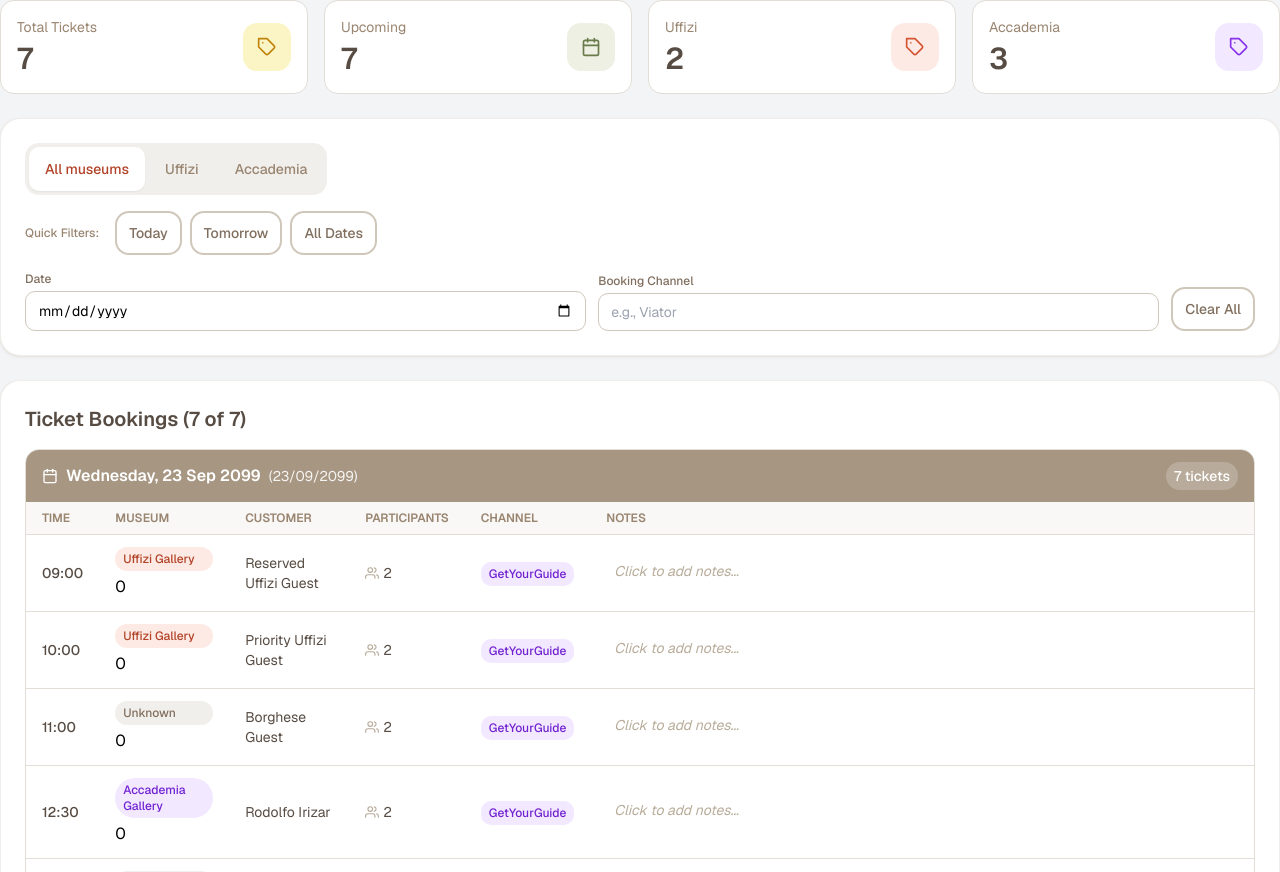
it: Priority Tickets museum tabs (step 6.11) › a failed download is said out loud
Click the tab "Accademia" at x=271, y=169, box x1=219 y1=147 x2=324 y2=191
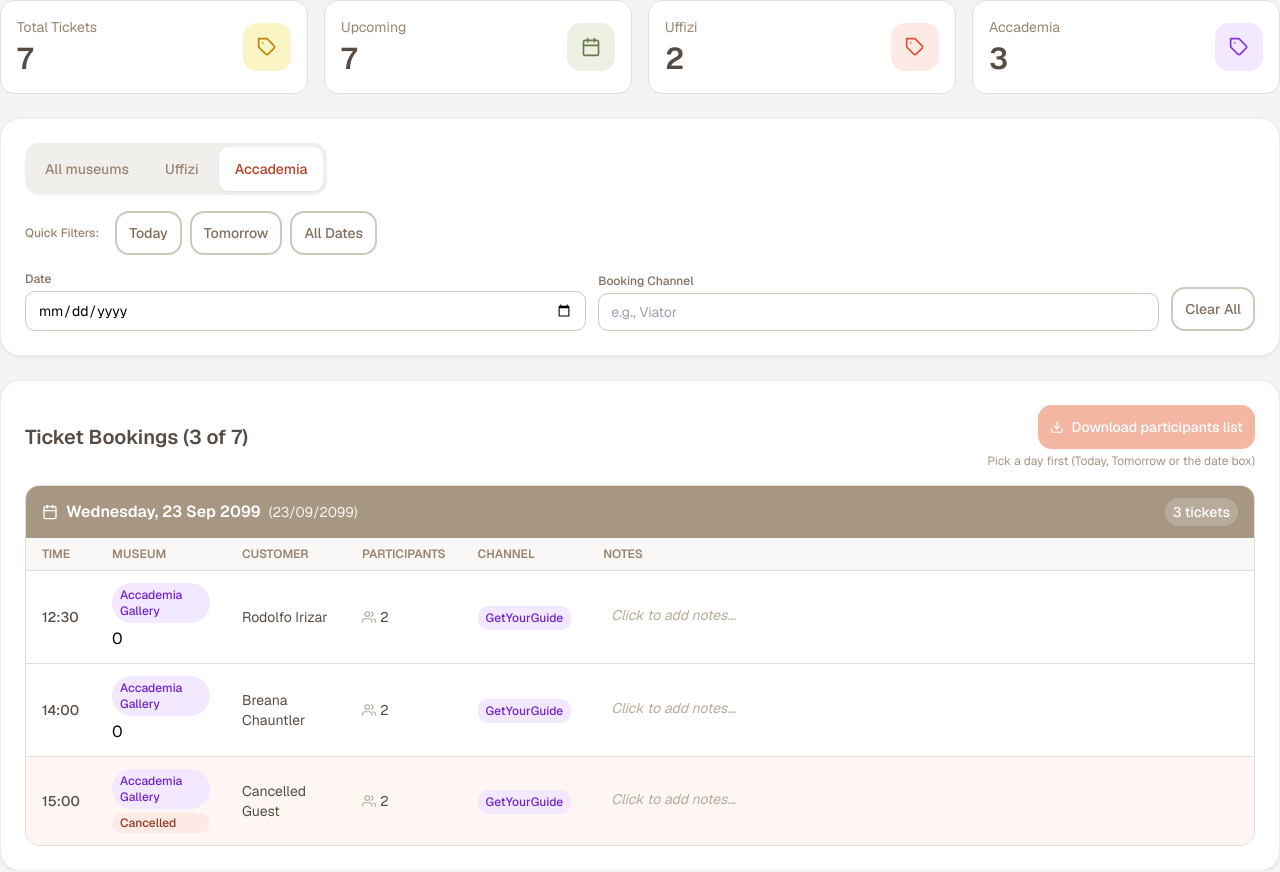
Type "2099-09-23" into the date field at x=306, y=311, box x1=25 y1=291 x2=586 y2=331
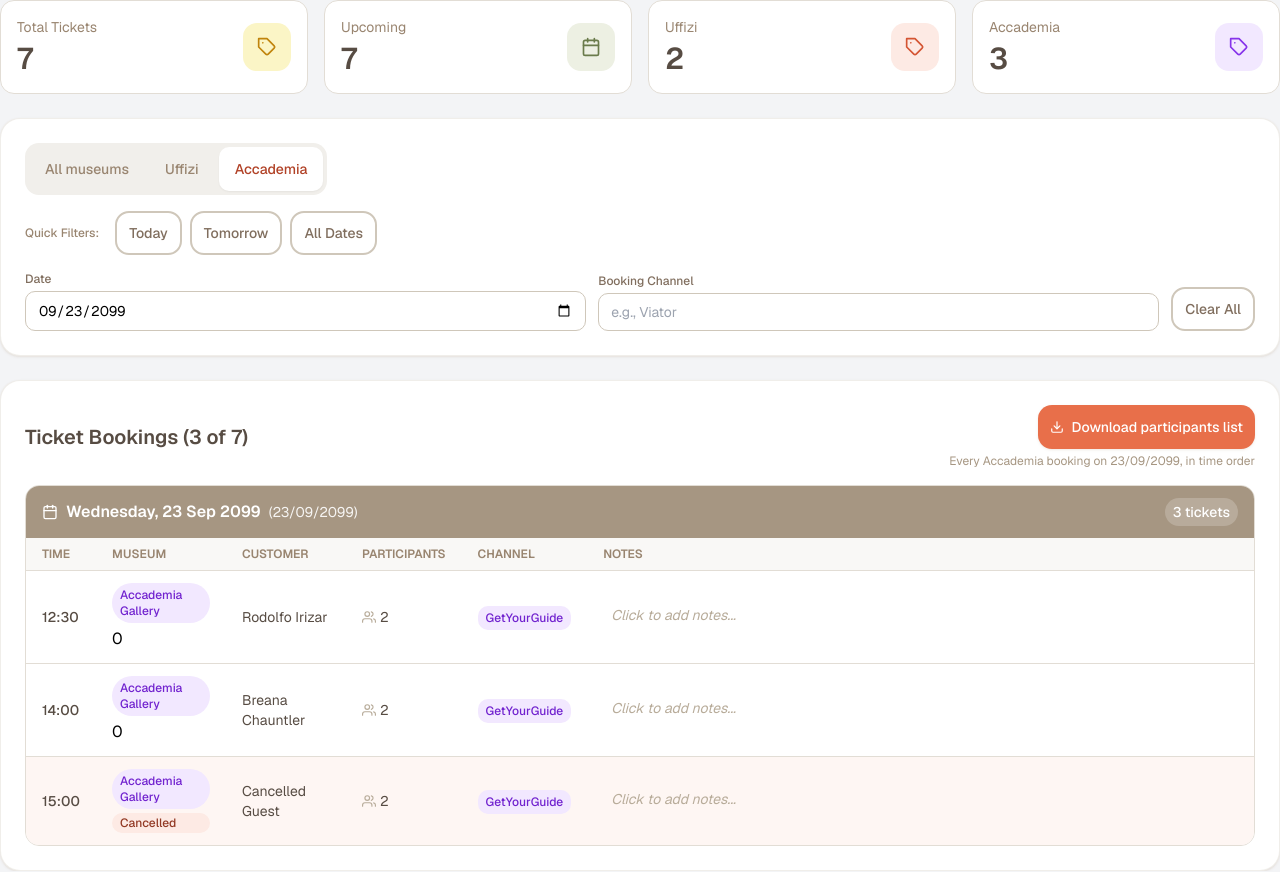
Click the button with test id "download-day-sheet" at x=1146, y=427, box x1=1038 y1=405 x2=1255 y2=449
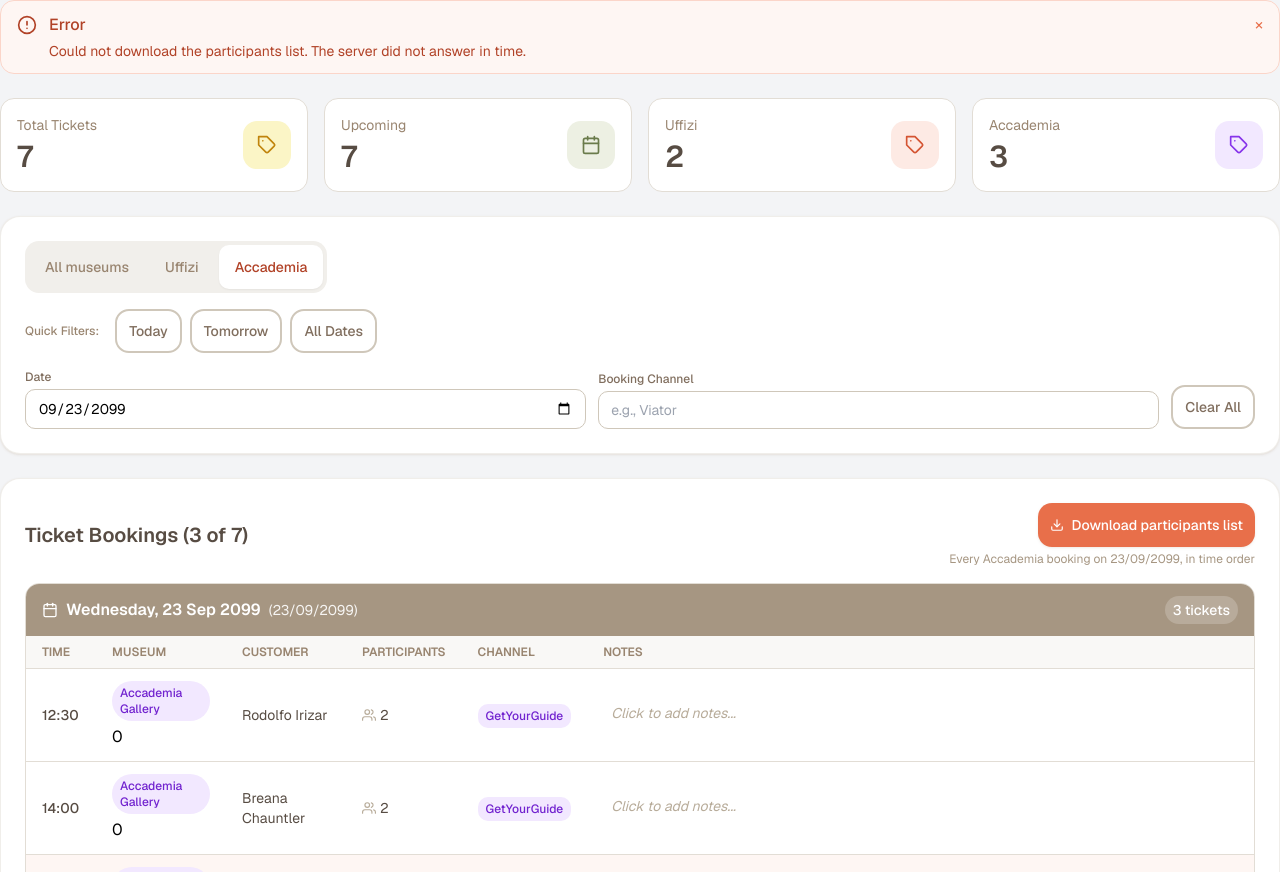
Expected: the text "Could not download the participants list" is shown, x1=49 y1=42 x2=526 y2=60
